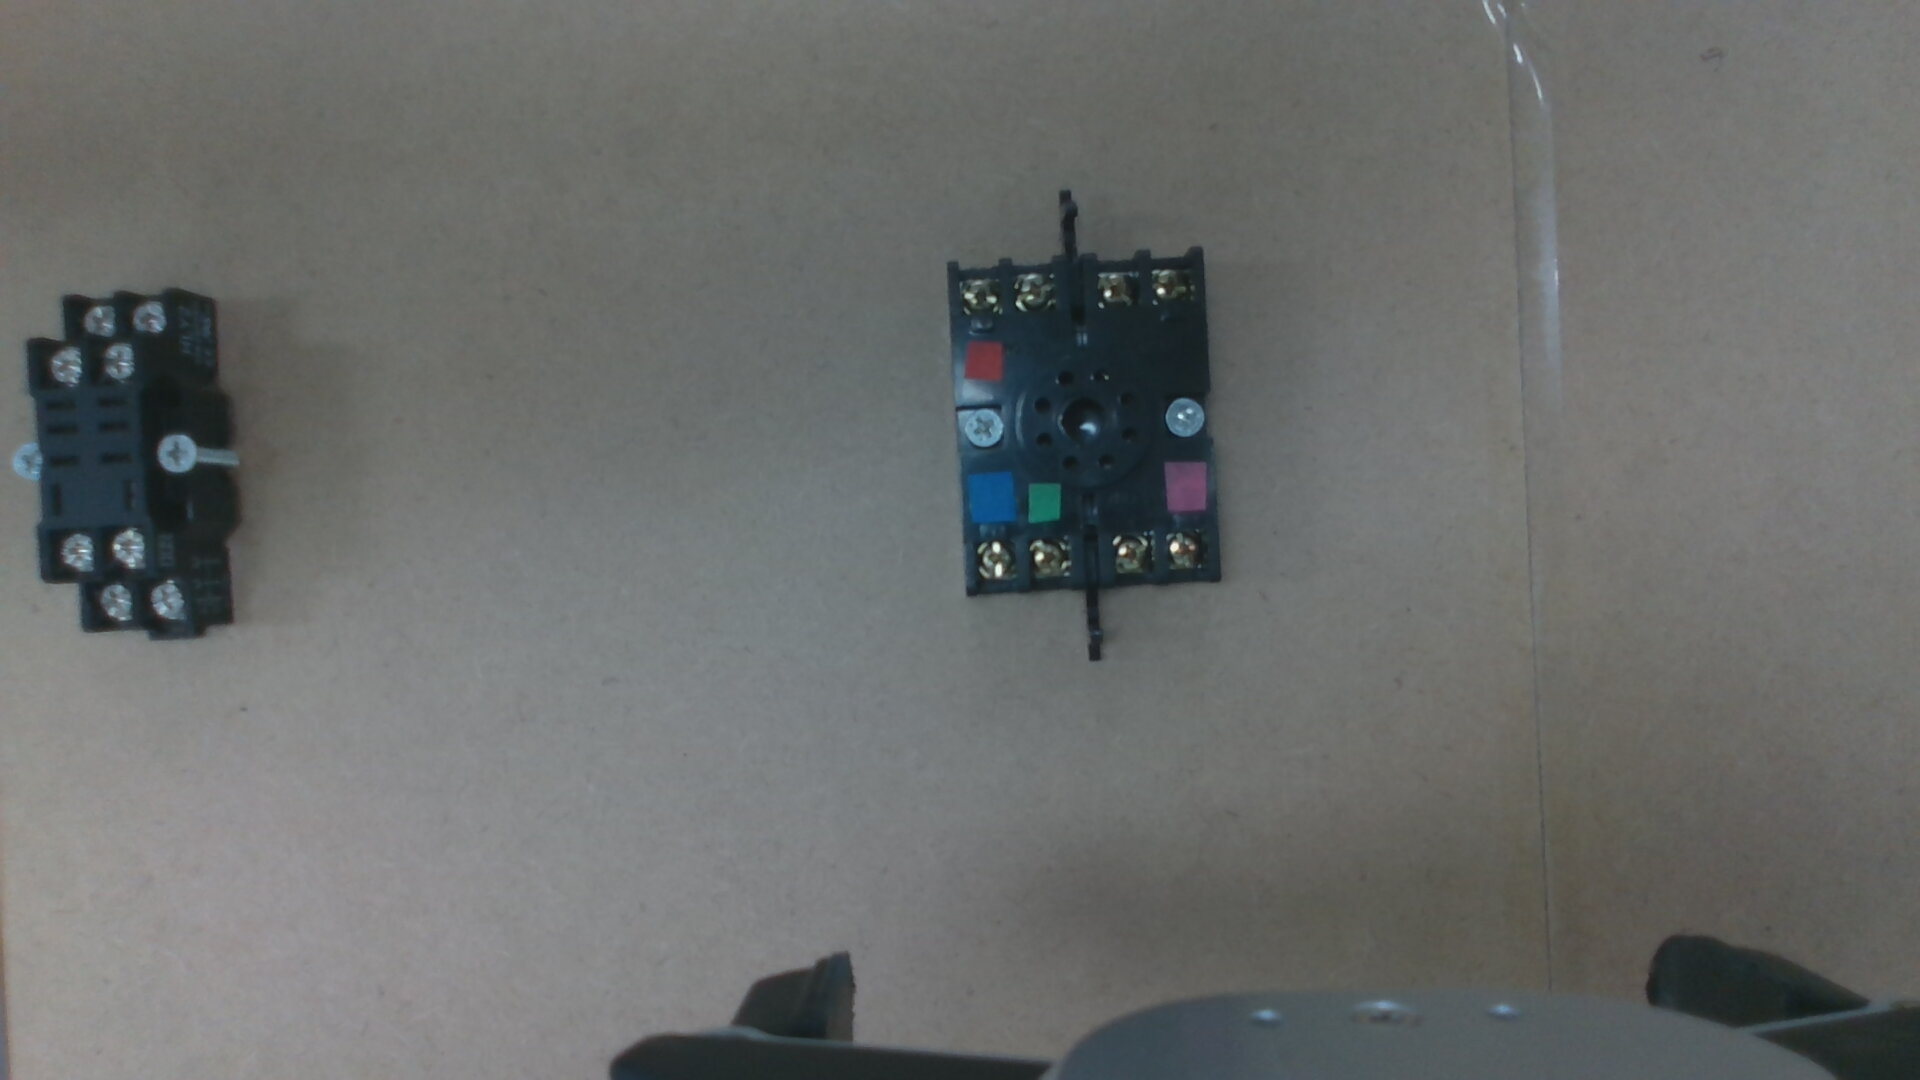timer 2: (1167, 533, 1203, 570)
timer 6: (959, 278, 1000, 309)
timer 7: (975, 541, 1014, 578)
timer 8: (1029, 537, 1071, 578)
